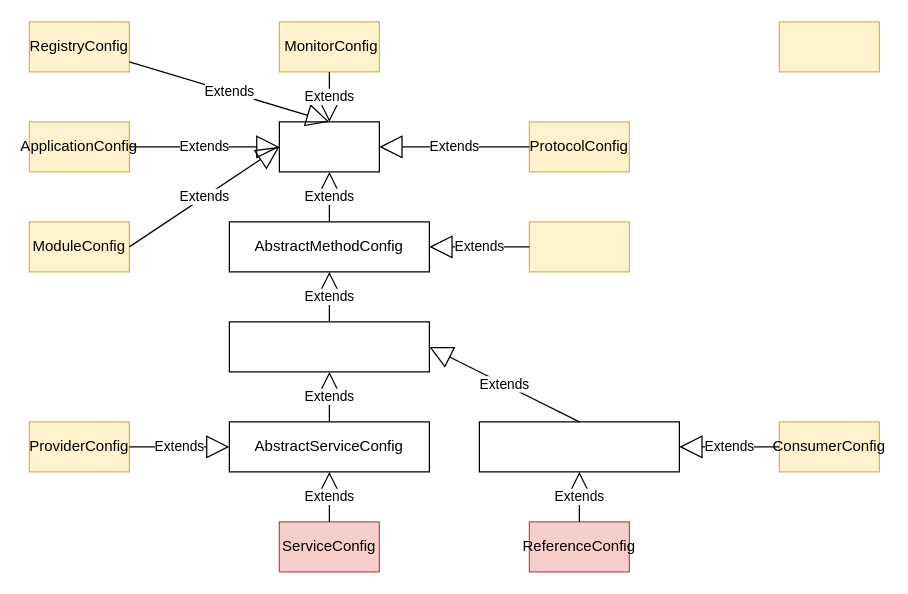
Image size: 908x594. Some labels were removed from this diagram. Here are the shapes that lost their labels. From the top down, the centre of each, then its label:
At [828,46]: "ArgumentConfig".
At [328,146]: "AbstractConfig".
At [578,246]: "MethodConfig".
At [328,346]: "AbstractInterfaceConfig".
At [578,446]: "AbstractReferenceConfig".
